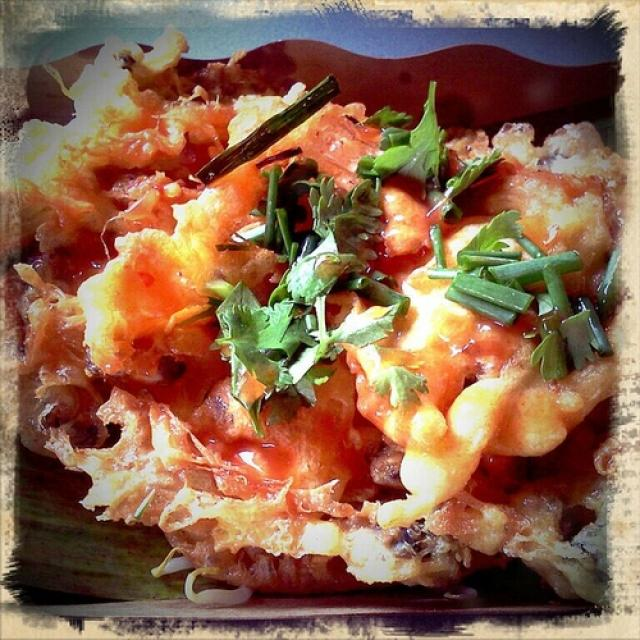炸货点心: (22, 28, 598, 608)
蛋糕甜品: (22, 28, 598, 608)
